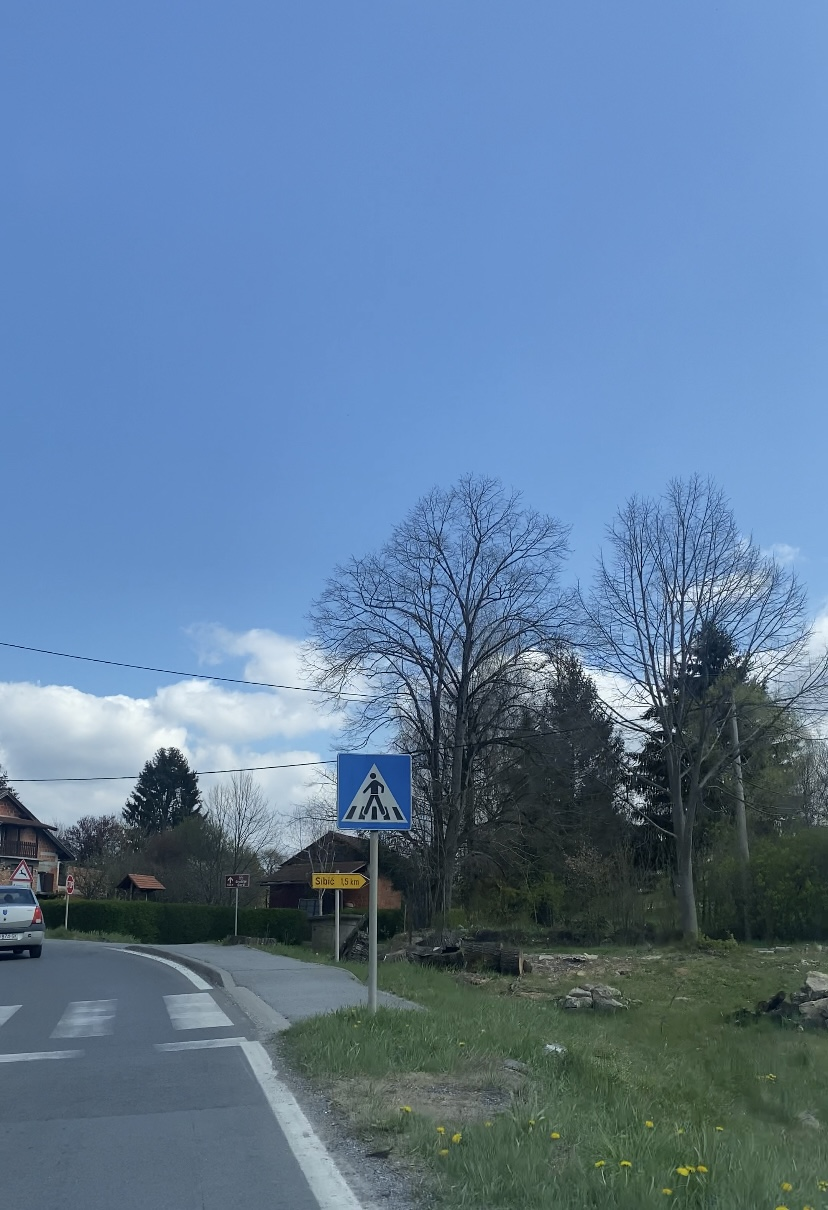Pješački prijelaz: (338, 754, 412, 831)
